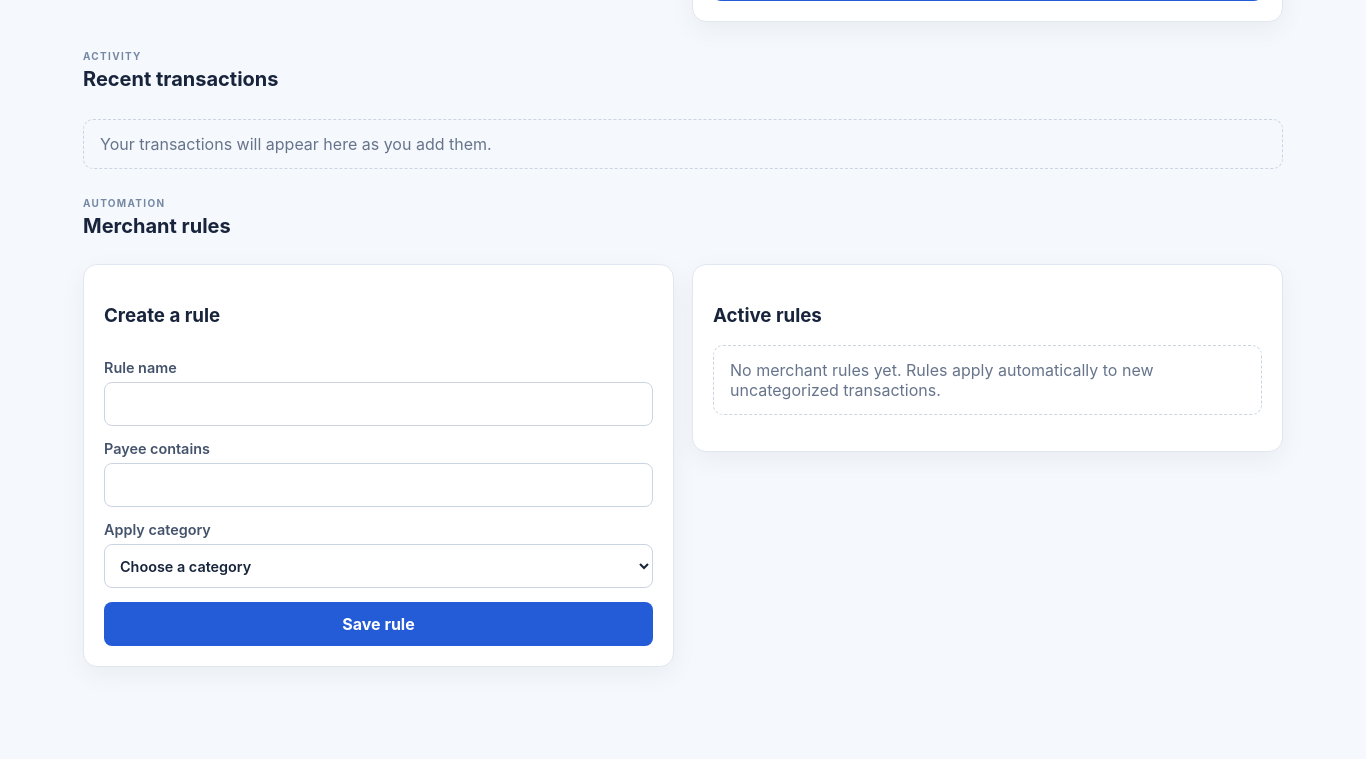
creates a merchant categorization rule
This screenshot has width=1366, height=759.
(page scrolled)
Type "Groceries" into the field labelled "Rule name" at x=378, y=404, box [104, 382, 653, 426]
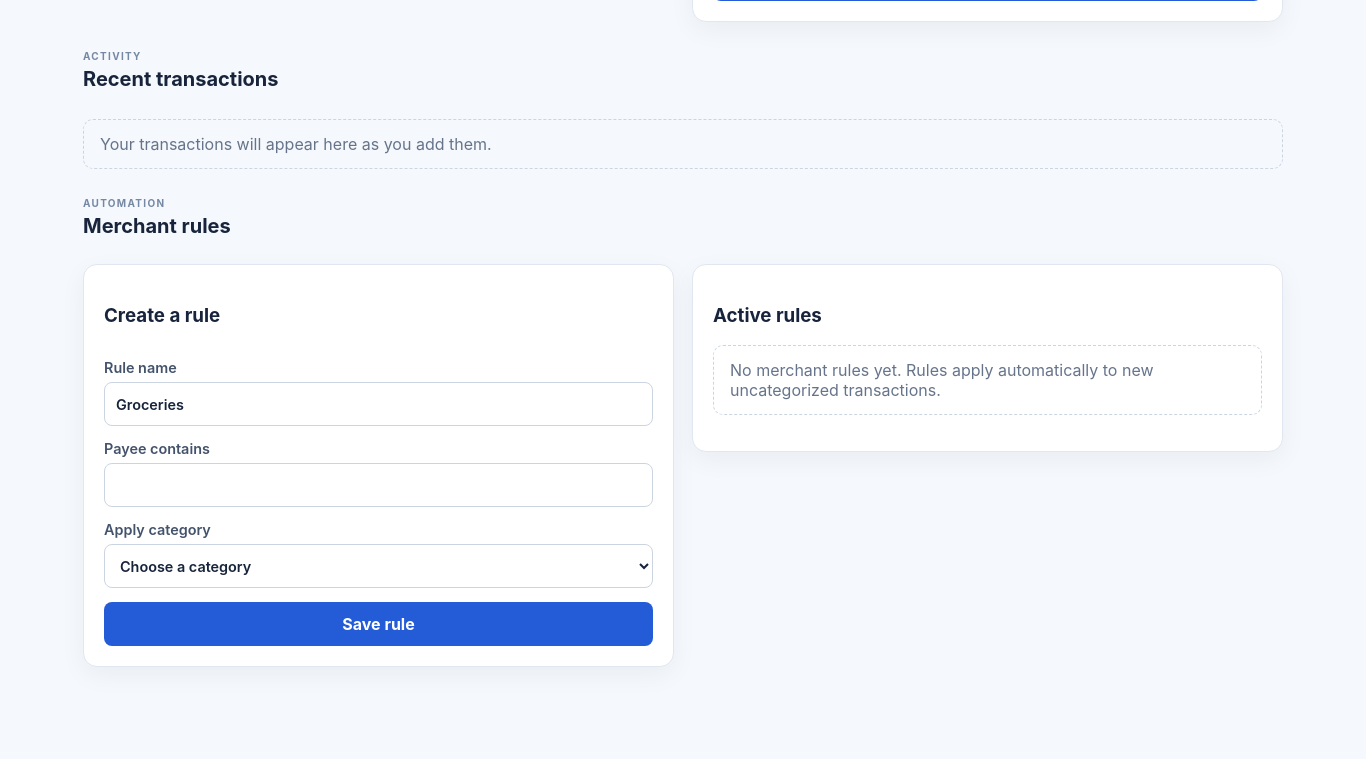
Type "market" into the field labelled "Payee contains" at x=378, y=485, box [104, 463, 653, 507]
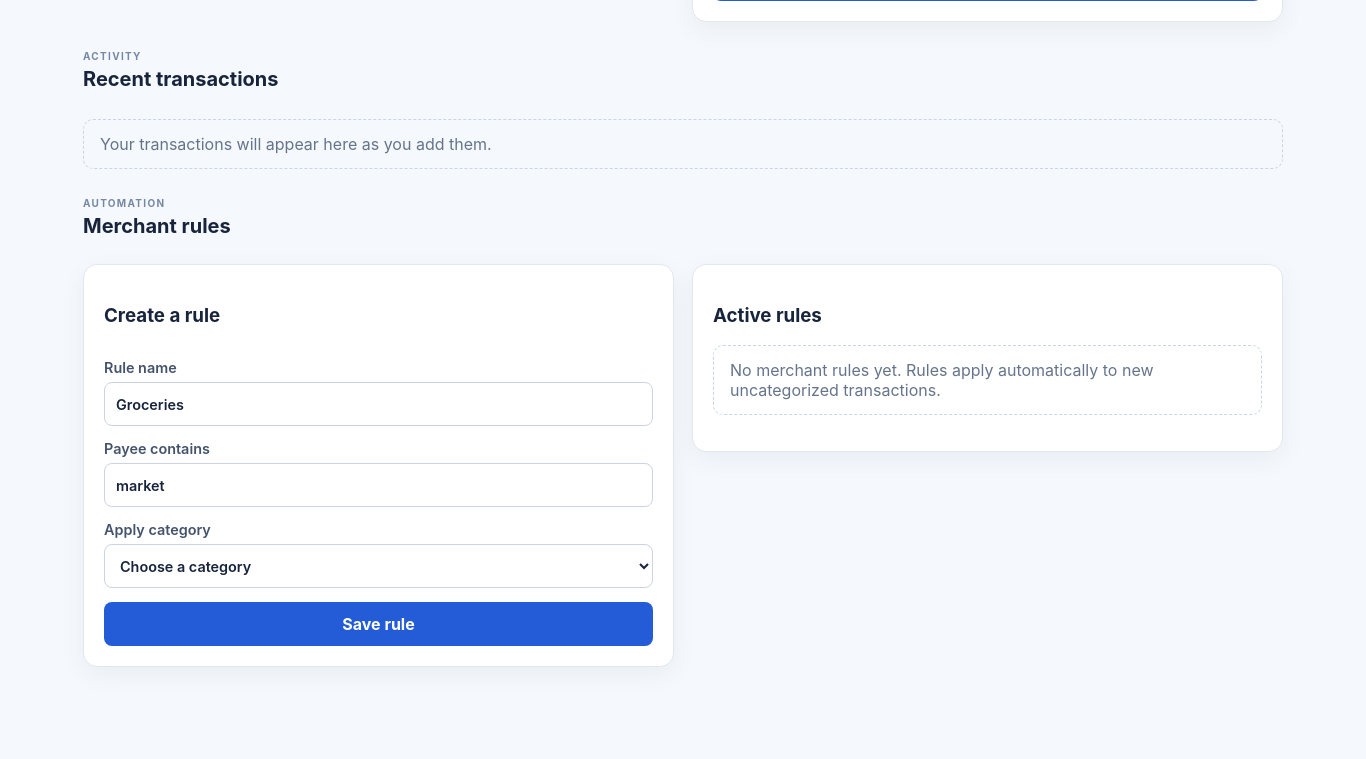
Select "Food" in the dropdown labelled "Apply category" at x=378, y=566, box [104, 544, 653, 588]
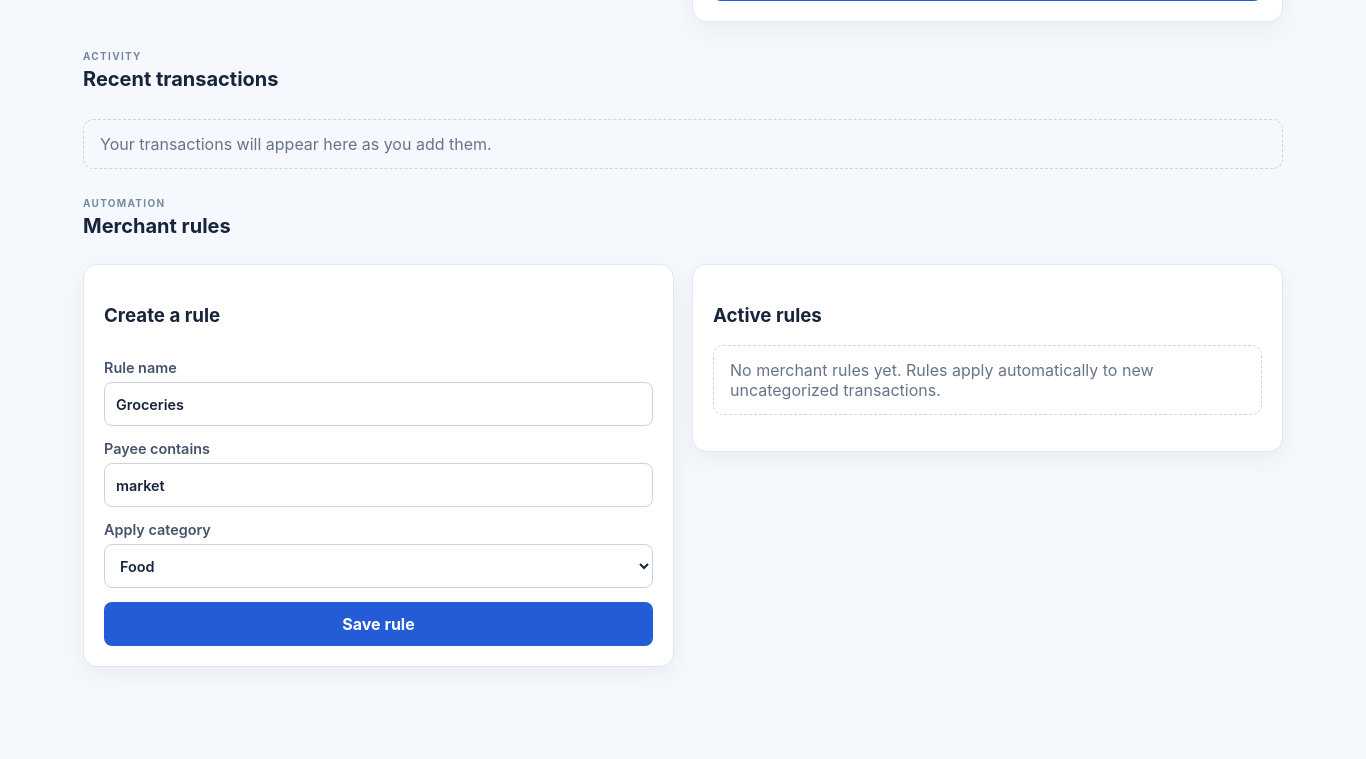
Click the button "Save rule" at x=378, y=624, box [104, 602, 653, 646]
(page scrolled)
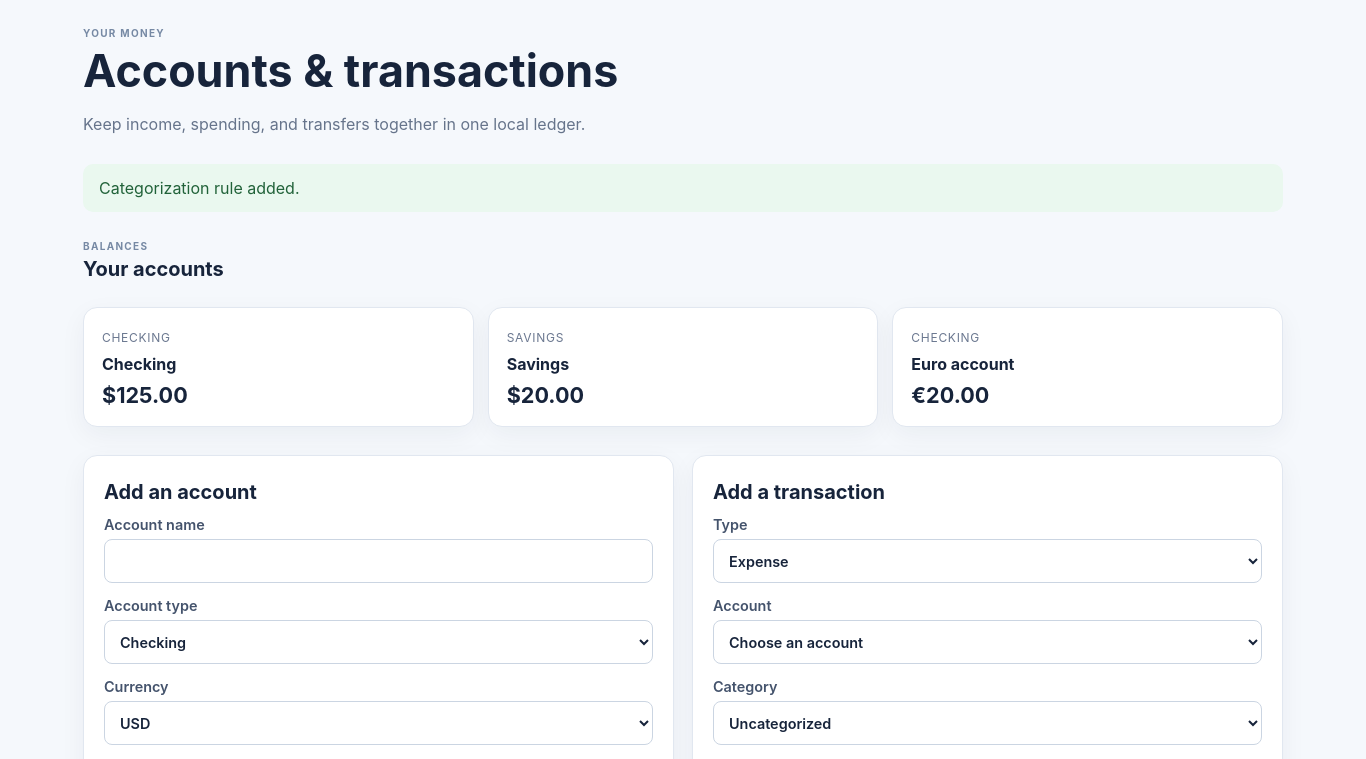
Now the text "Categorization rule added." is shown, box [83, 164, 1283, 212]
